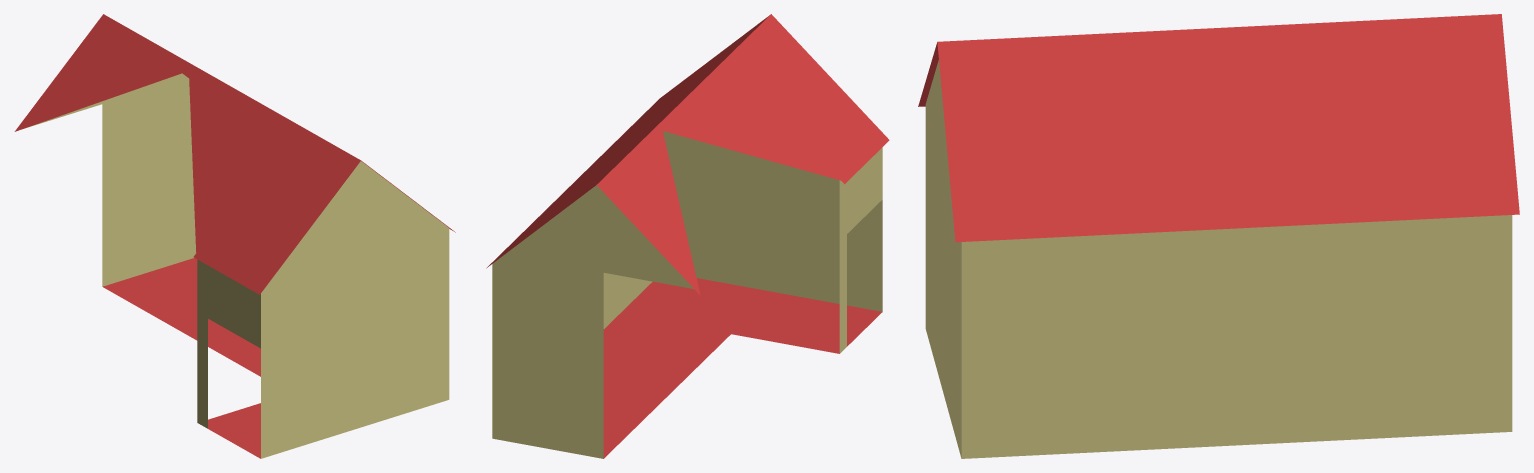
3 views of the same model, side by side, from view 1: azimuth 30°, elevation 25°; view 2: azimuth 150°, elevation 25°; view 3: azimuth 270°, elevation 25° (orthographic). The views are drawn at different scales.
Bounding box in the file's own units: 13.22 × 21.72 × 14.13.
